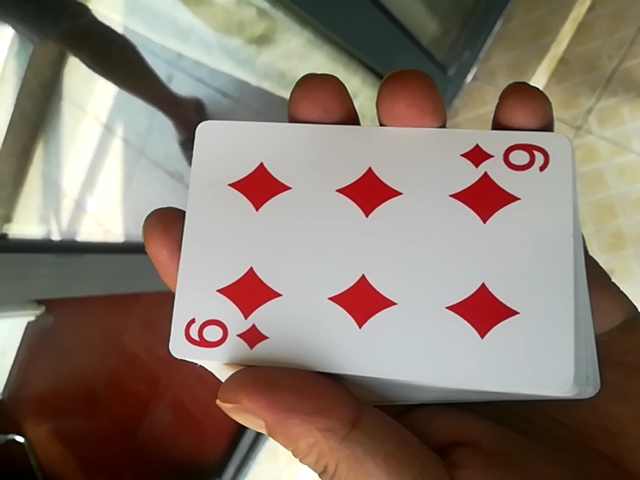fk 6: (149, 106, 599, 406)
